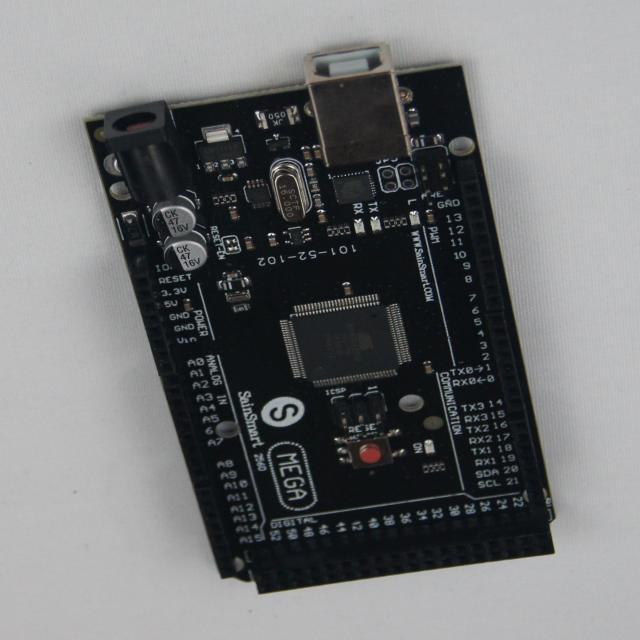Arduino Mega 2560 -Black-: (87, 45, 555, 594)
